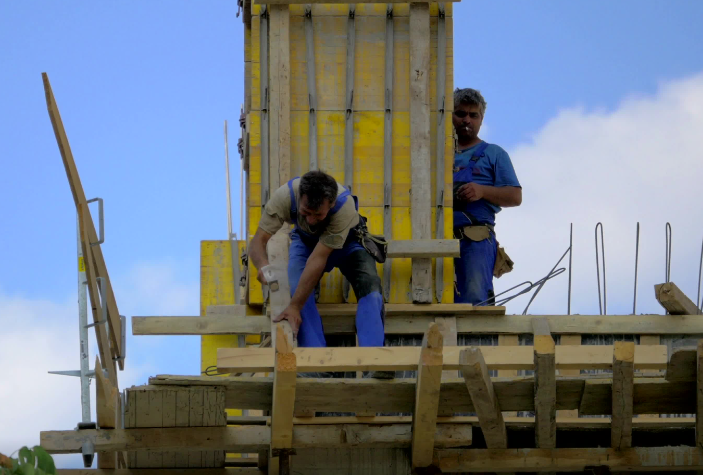safety_helmet: (493, 244, 514, 279)
